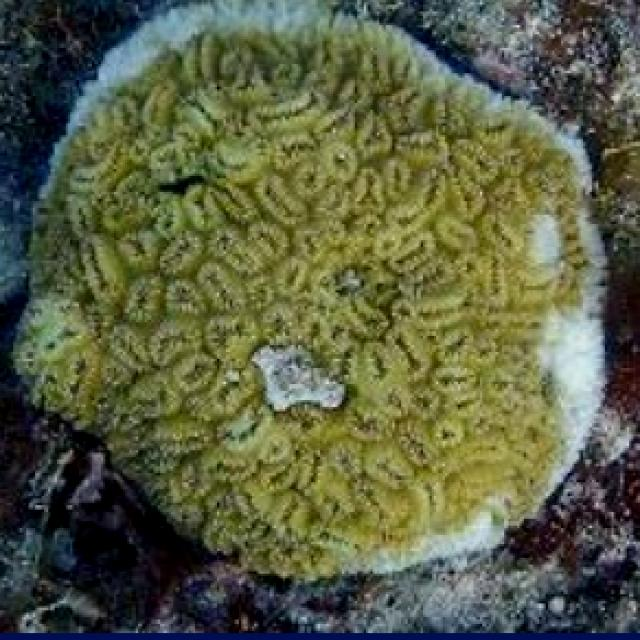Coral: (11, 0, 607, 583)
